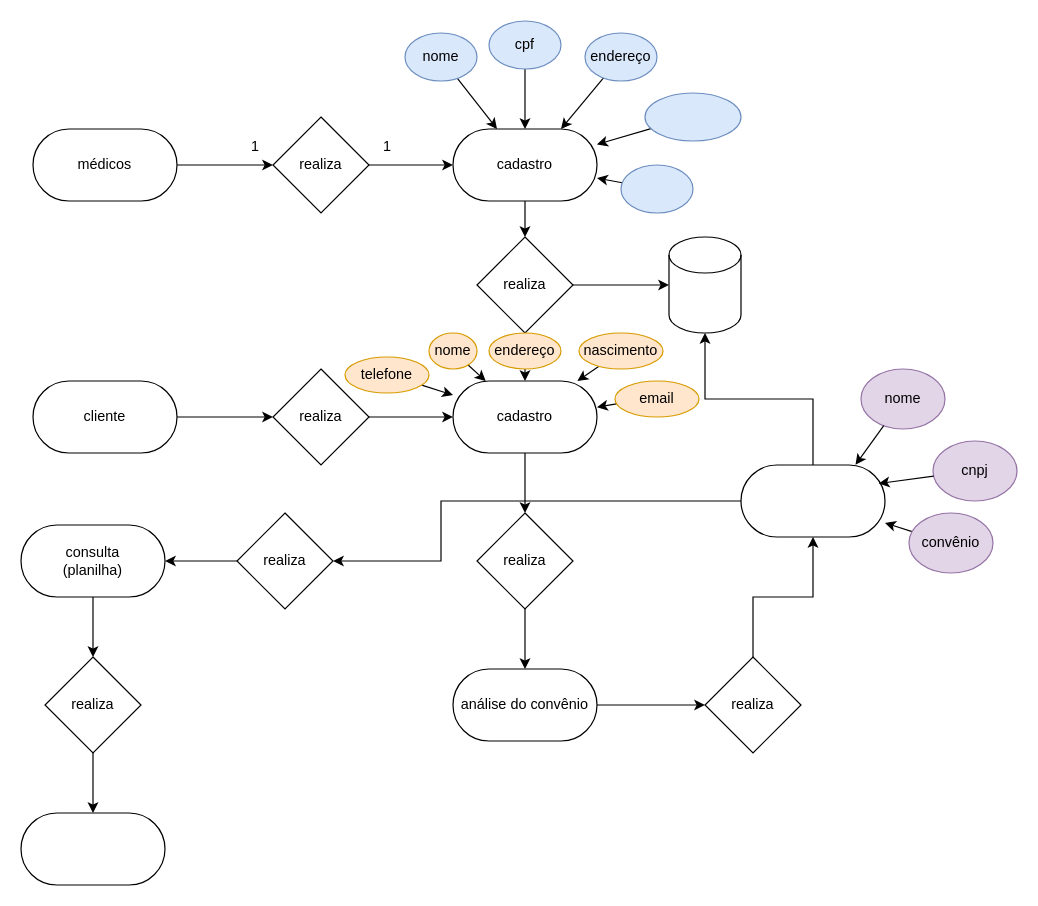
Image size: 1038x906. Some labels were removed from this diagram. The shapes that lost their labels are listed below. From the top down, each one's box as (x1, y1, x2, y2) in pixels, then its label:
(644, 92, 741, 141): especialidade
(668, 236, 741, 333): armazenamento
(740, 464, 885, 537): consulta (especialidade)
(20, 812, 165, 885): consulta/receita médica
